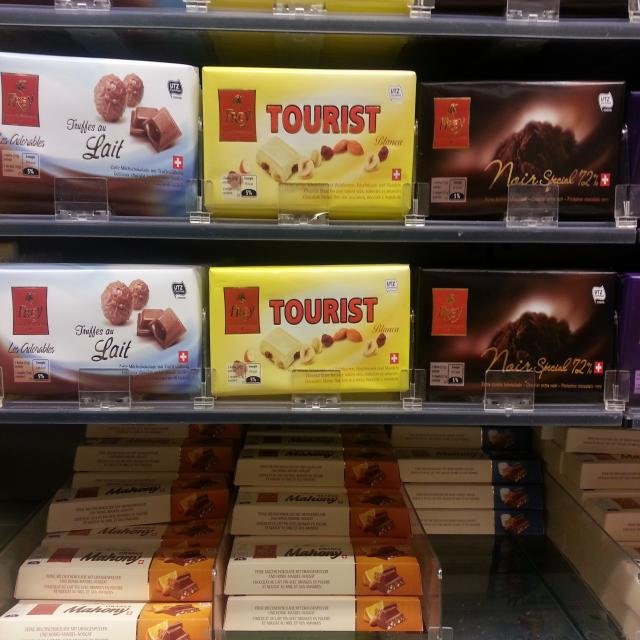chocolate: (203, 66, 421, 217), (0, 53, 196, 220), (412, 80, 628, 216), (423, 267, 623, 399), (0, 271, 204, 397), (210, 270, 412, 395), (231, 538, 424, 604), (18, 544, 216, 603), (227, 484, 409, 545), (49, 478, 227, 528), (0, 598, 211, 640), (223, 598, 427, 640), (402, 454, 552, 485), (407, 487, 558, 510), (420, 514, 553, 539)
